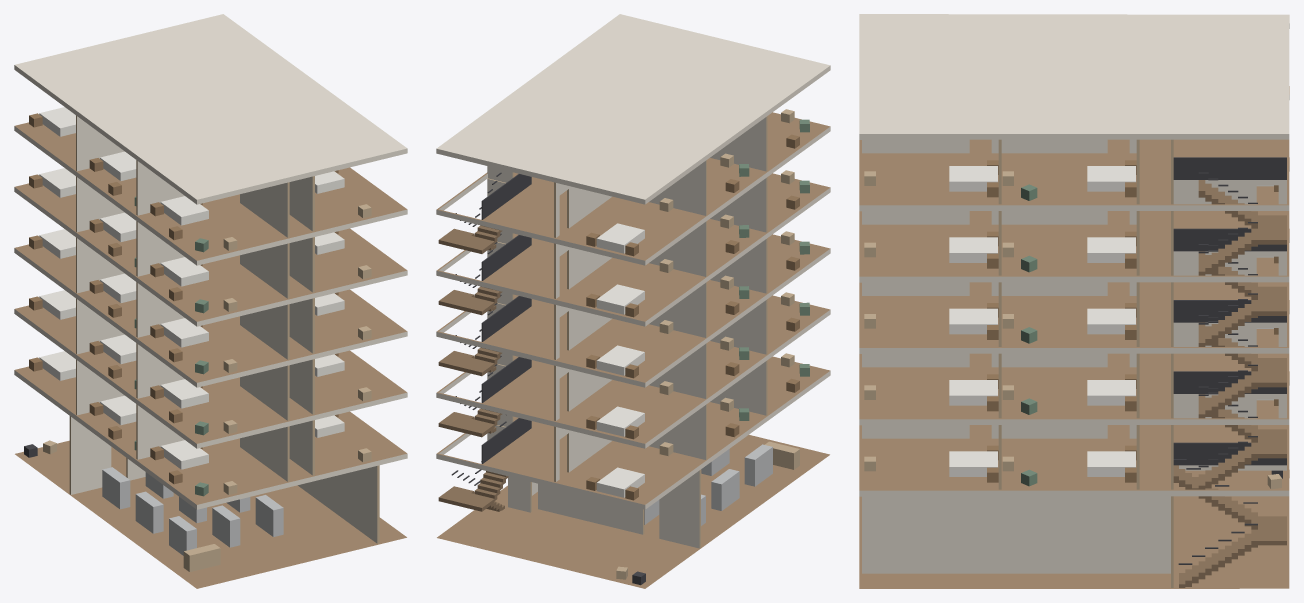
Rendered from interior.glb.
3 views of the same model, side by side, from view 1: azimuth 30°, elevation 25°; view 2: azimuth 150°, elevation 25°; view 3: azimuth 270°, elevation 25° (orthographic). The views are drawn at different scales.
Parts seen in each view (by area): view 1: slabs, partitions, coarse-s0, coarse-s2, coarse-s4, coarse-s5, coarse-s1, coarse-s3; view 2: slabs, partitions, stair, coarse-s0, coarse-s5, coarse-s4, coarse-s3, coarse-s2, coarse-s1; view 3: slabs, partitions, stair, coarse-s3, coarse-s4, coarse-s1, coarse-s2, coarse-s5.
Boxes of the visible parts, bbox=[...] form: slabs: bbox=[14, 14, 407, 588]; partitions: bbox=[69, 115, 379, 543]; coarse-s0: bbox=[24, 440, 283, 571]; coarse-s2: bbox=[29, 290, 371, 435]; coarse-s4: bbox=[29, 168, 371, 313]; coarse-s5: bbox=[29, 107, 371, 252]; coarse-s1: bbox=[29, 351, 371, 496]; coarse-s3: bbox=[29, 229, 371, 374]; slabs: bbox=[436, 14, 830, 588]; partitions: bbox=[487, 116, 767, 548]; stair: bbox=[438, 172, 531, 511]; coarse-s0: bbox=[616, 441, 799, 585]; coarse-s5: bbox=[586, 109, 809, 256]; coarse-s4: bbox=[586, 170, 809, 317]; coarse-s3: bbox=[586, 231, 809, 378]; coarse-s2: bbox=[586, 292, 809, 439]; coarse-s1: bbox=[586, 353, 809, 500]; slabs: bbox=[859, 14, 1289, 588]; partitions: bbox=[862, 139, 1286, 587]; stair: bbox=[1173, 157, 1286, 587]; coarse-s3: bbox=[864, 256, 1278, 343]; coarse-s4: bbox=[864, 185, 1278, 272]; coarse-s1: bbox=[864, 399, 1278, 486]; coarse-s2: bbox=[864, 328, 1278, 414]; coarse-s5: bbox=[864, 160, 1136, 200].
Size of the model in its own units: 11.67 by 20.62 by 17.65.
